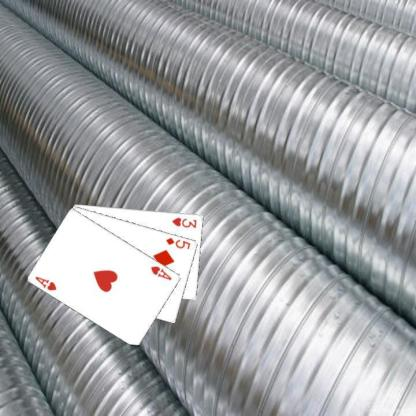3H: (170, 215, 197, 229)
5D: (163, 235, 192, 250)
AH: (148, 263, 173, 282), (33, 274, 58, 292)
